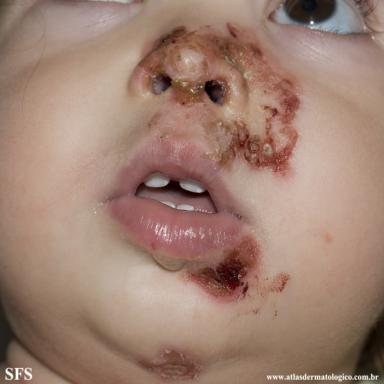Impetigo: (128, 22, 302, 180), (179, 238, 289, 314), (139, 350, 200, 381)
